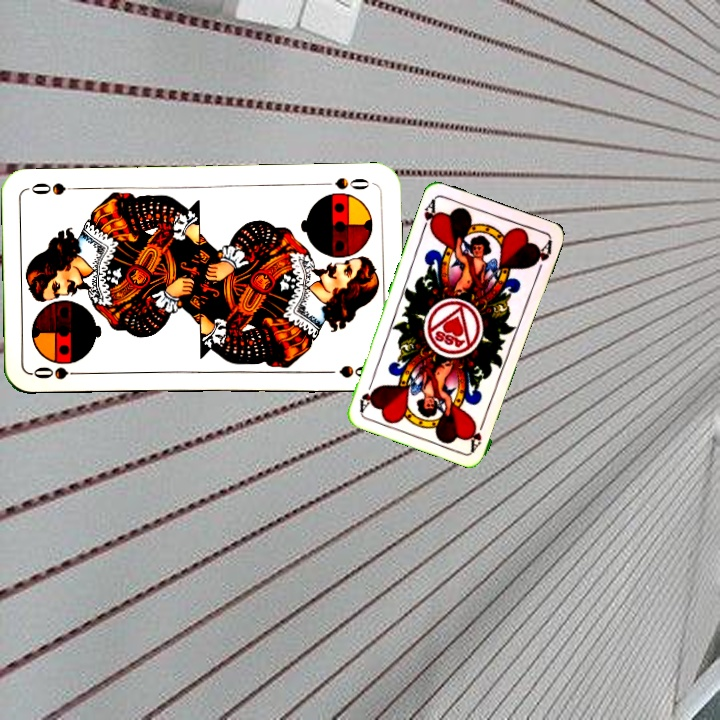HA: (418, 194, 441, 234), (466, 413, 489, 453)
SO: (29, 362, 88, 382), (316, 174, 372, 193)
